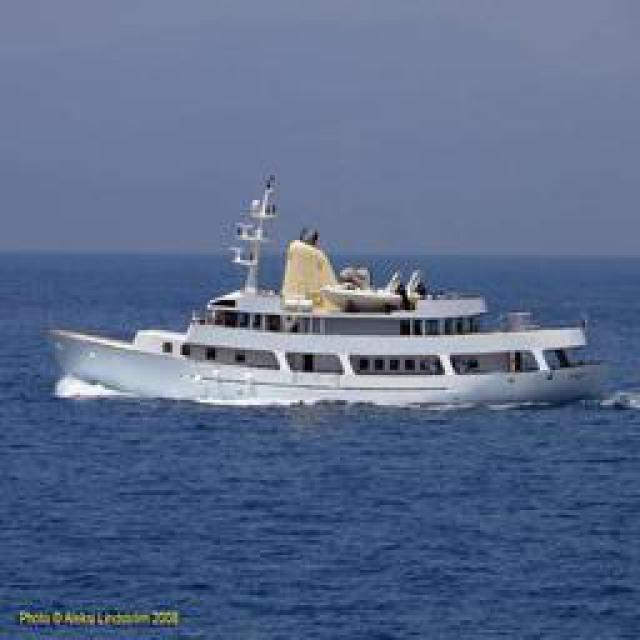Ship: (44, 176, 617, 411)
